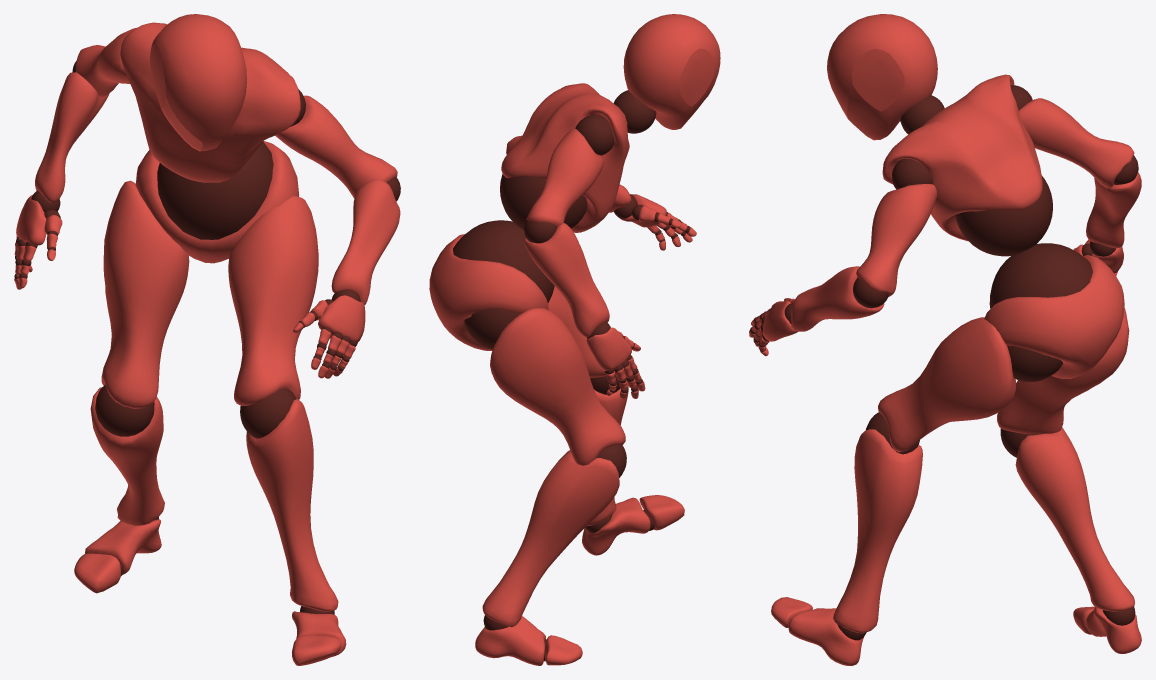
3 views of the same model, side by side, from view 1: azimuth 30°, elevation 25°; view 2: azimuth 150°, elevation 25°; view 3: azimuth 270°, elevation 25° (orthographic). The views are drawn at different scales.
Parts seen in each view (by area): view 1: Beta_Surface, Beta_Joints; view 2: Beta_Surface, Beta_Joints; view 3: Beta_Surface, Beta_Joints.
Part boxes in pixels (box(x1,y1,x2,y2)): Beta_Surface: box(14, 14, 400, 665); Beta_Joints: box(14, 61, 400, 614); Beta_Surface: box(429, 14, 720, 665); Beta_Joints: box(453, 90, 690, 661); Beta_Surface: box(749, 14, 1141, 665); Beta_Joints: box(750, 85, 1138, 640).
Size of the model in its own units: 0.6293 by 1.47 by 0.8644.
